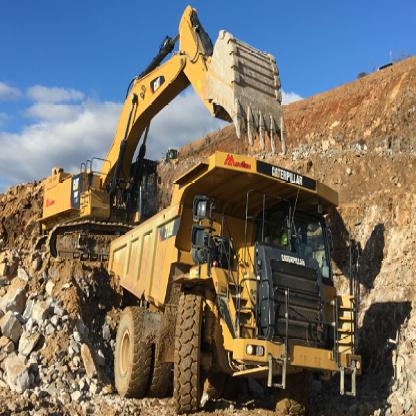dump_truck: (99, 148, 386, 404)
excavator: (26, 3, 312, 275)
